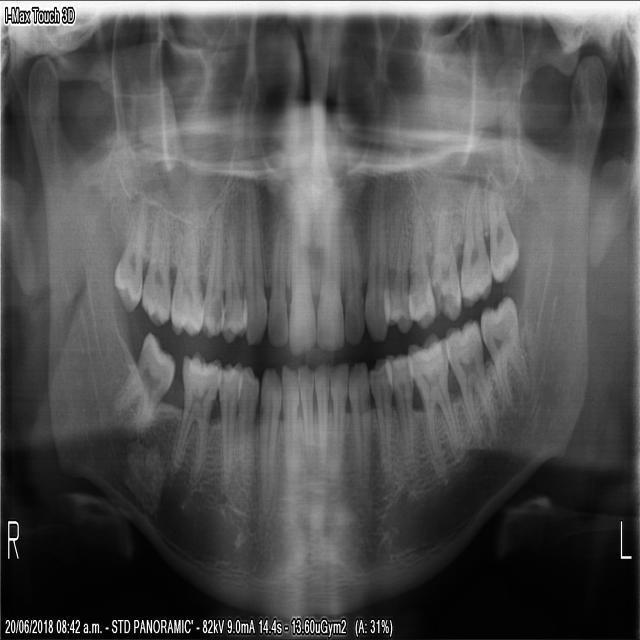LCD: (348, 358, 370, 492)
LCU: (364, 178, 389, 345)
LID: (328, 361, 348, 481), (312, 358, 330, 478)
LIU: (314, 183, 344, 353), (343, 207, 365, 348)
LMD: (406, 326, 464, 480), (447, 315, 497, 449), (478, 291, 531, 413)
LMU: (458, 178, 492, 308), (485, 165, 521, 283), (431, 193, 461, 325)
LPMD: (369, 352, 392, 473), (392, 351, 413, 467)
LPMU: (408, 192, 434, 330), (387, 194, 411, 337)
RCD: (258, 363, 281, 506)
RCU: (241, 174, 266, 345)
RID: (280, 365, 300, 491), (295, 361, 313, 474)
RIU: (285, 187, 314, 356), (265, 208, 285, 347)
RMD: (166, 343, 219, 494), (109, 328, 174, 439)
RMU: (110, 190, 148, 315), (139, 202, 169, 328)
RPMD: (216, 358, 240, 494), (236, 362, 259, 499)
RPMU: (168, 191, 202, 340), (218, 197, 243, 345), (198, 198, 222, 342)
